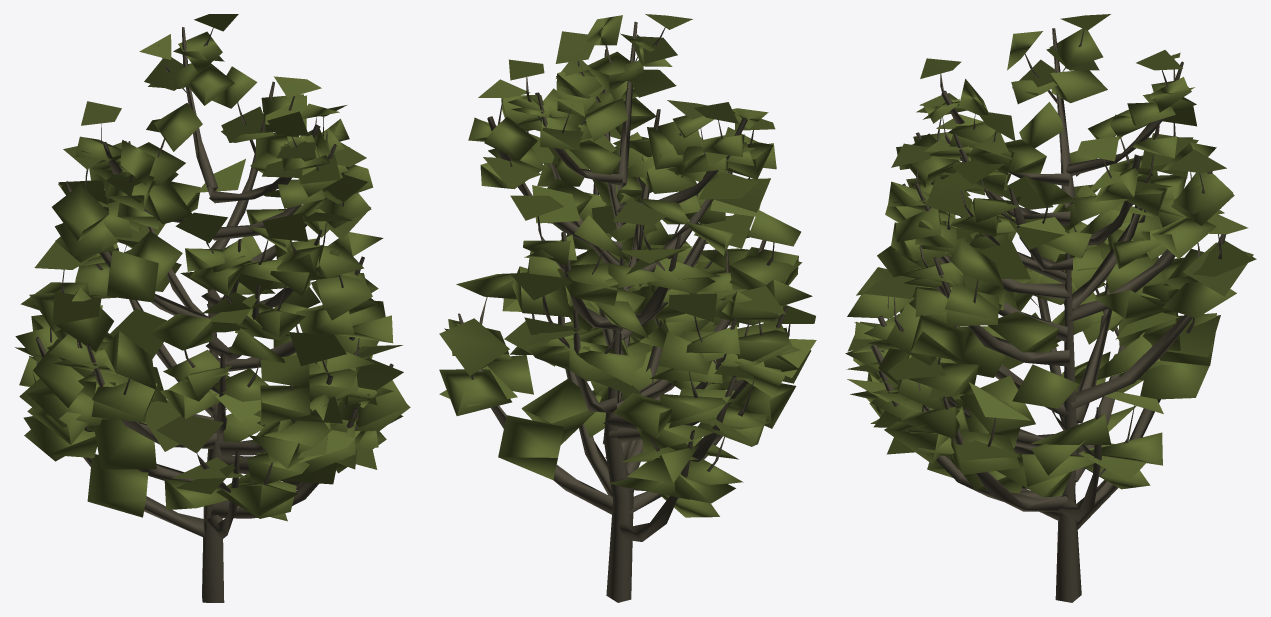
File: Tree_BlackWillow_001.fbx
The picture shows the model from 3 angles, left to right: view 1: azimuth 30°, elevation 25°; view 2: azimuth 150°, elevation 25°; view 3: azimuth 270°, elevation 25°; orthographic projection. The views are drawn at different scales.
Parts seen in each view (by area): view 1: Tree_BlackWillow.001; view 2: Tree_BlackWillow.001; view 3: Tree_BlackWillow.001.
Part boxes in pixels (left/top/right/bottom): Tree_BlackWillow.001: left=15, top=14, right=410, bottom=602; Tree_BlackWillow.001: left=439, top=14, right=816, bottom=602; Tree_BlackWillow.001: left=845, top=14, right=1256, bottom=602.
Bounding box in the file's own units: 1340 × 2029 × 1348.
